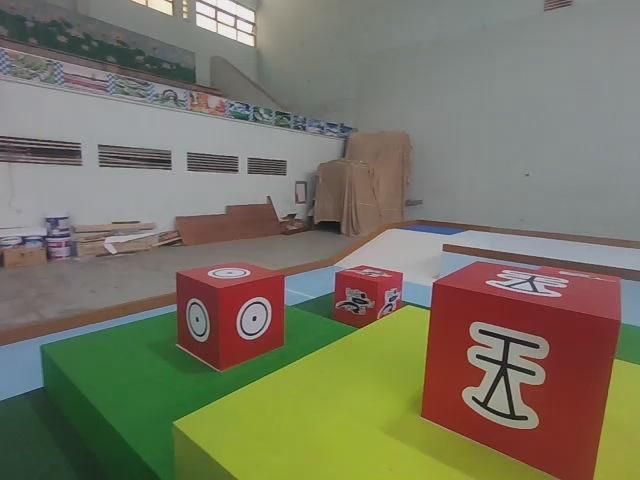R1: (332, 262, 407, 329)
R2 Real: (419, 257, 621, 480), (173, 259, 289, 372)
